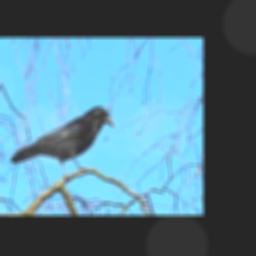Crow: (10, 105, 115, 179)
